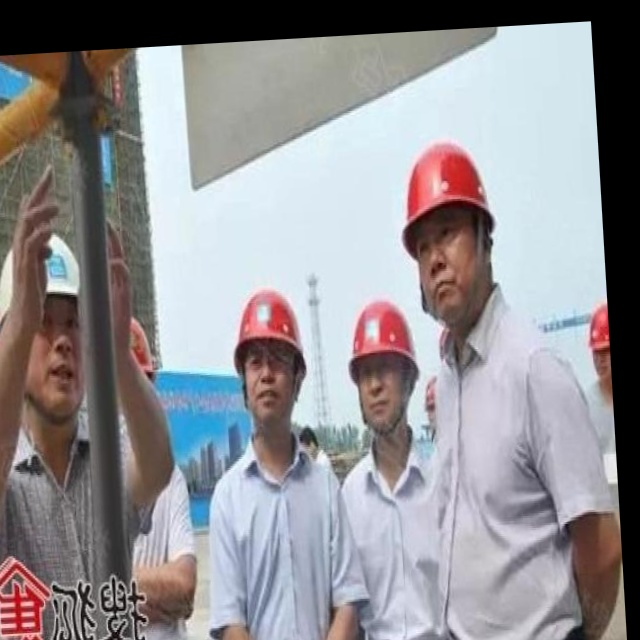Con_Casco: (228, 288, 313, 435), (342, 295, 422, 441)
